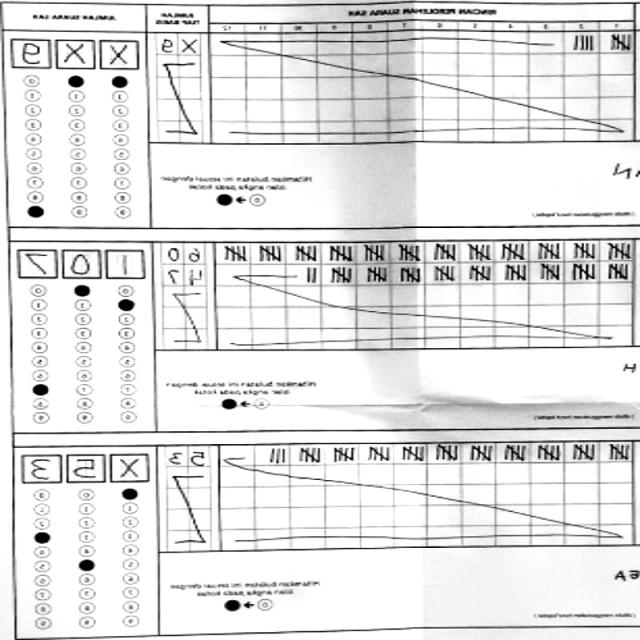Suara: (19, 446, 159, 482), (10, 33, 144, 70), (18, 244, 146, 282)
